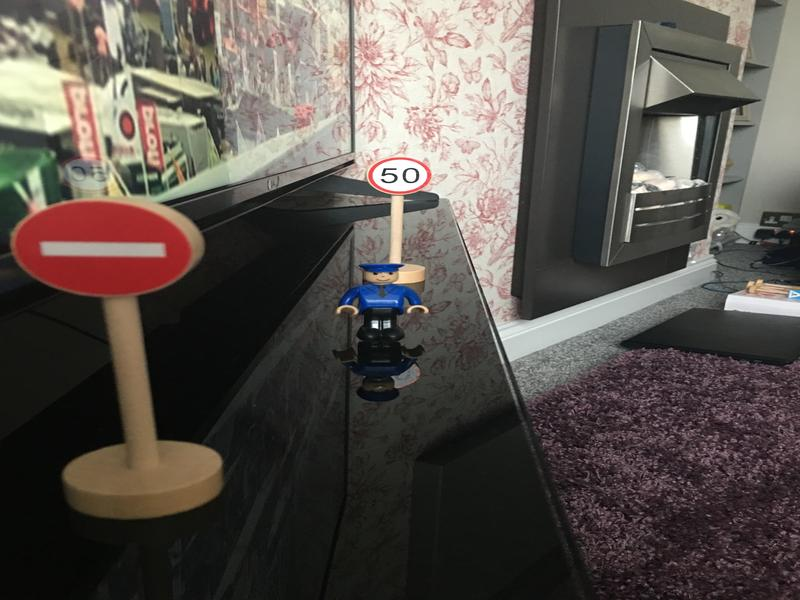Traffic_Sign_50: (367, 157, 430, 193)
Traffic_Sign_No_Entry: (12, 202, 191, 297)
person: (337, 262, 431, 348)
